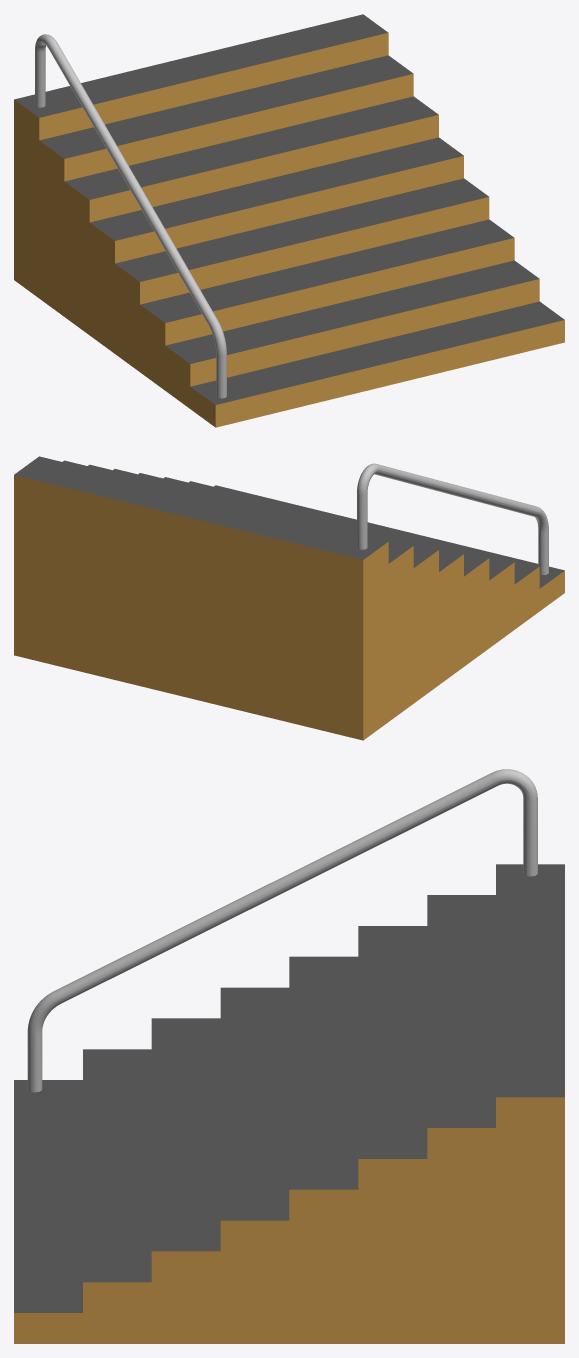
The model's file is Skate_Stairs_Handrail_Left_01.FBX.
The picture shows the model from 3 angles, top to bottom: view 1: azimuth 30°, elevation 25°; view 2: azimuth 150°, elevation 25°; view 3: azimuth 270°, elevation 25°; orthographic projection. The views are drawn at different scales.
Visible parts, largest first — view 1: Skate_Stairs_Handrail_Left_01; view 2: Skate_Stairs_Handrail_Left_01; view 3: Skate_Stairs_Handrail_Left_01.
Boxes of the visible parts, left/top/right/bottom form: Skate_Stairs_Handrail_Left_01: left=14, top=14, right=564, bottom=427; Skate_Stairs_Handrail_Left_01: left=14, top=456, right=564, bottom=740; Skate_Stairs_Handrail_Left_01: left=14, top=769, right=564, bottom=1343.
Size of the model in its own units: 3000 by 2104 by 3000.
